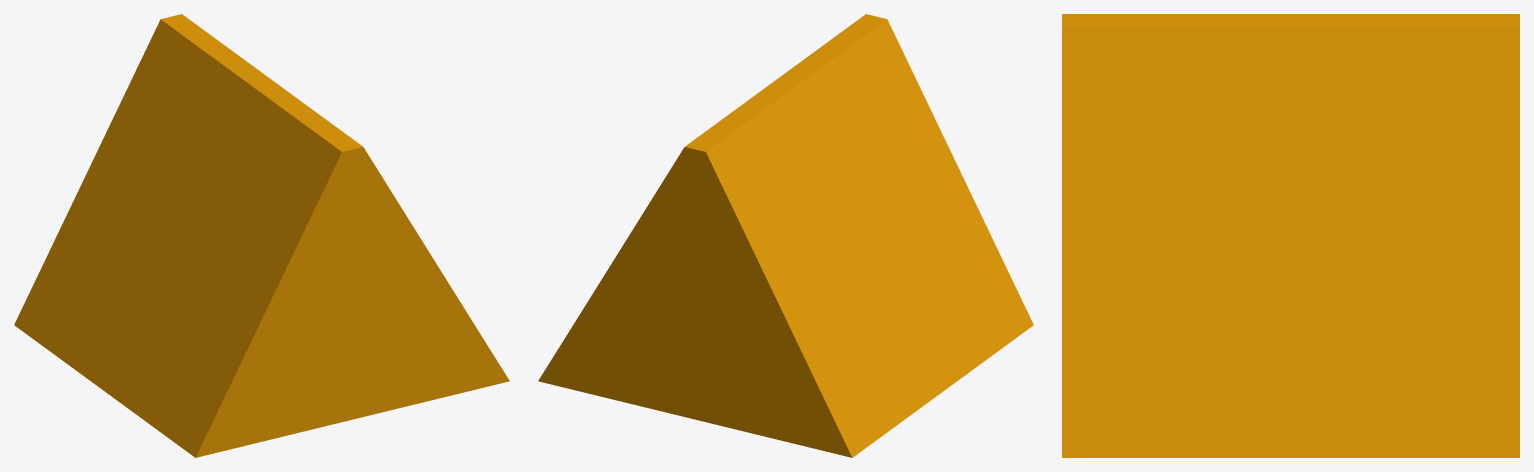
The model's file is tent_block.fbx.
3 renders of one model, left to right at view 1: azimuth 30°, elevation 25°; view 2: azimuth 150°, elevation 25°; view 3: azimuth 270°, elevation 25°, orthographic. The views are drawn at different scales.
Parts seen in each view (by area): view 1: tent; view 2: tent; view 3: tent.
Boxes of the visible parts, x1,y1,x2,y2 form: tent: (14, 14, 509, 457); tent: (538, 14, 1033, 457); tent: (1062, 14, 1519, 457).
Bounding box in the file's own units: 209 × 171 × 209.
